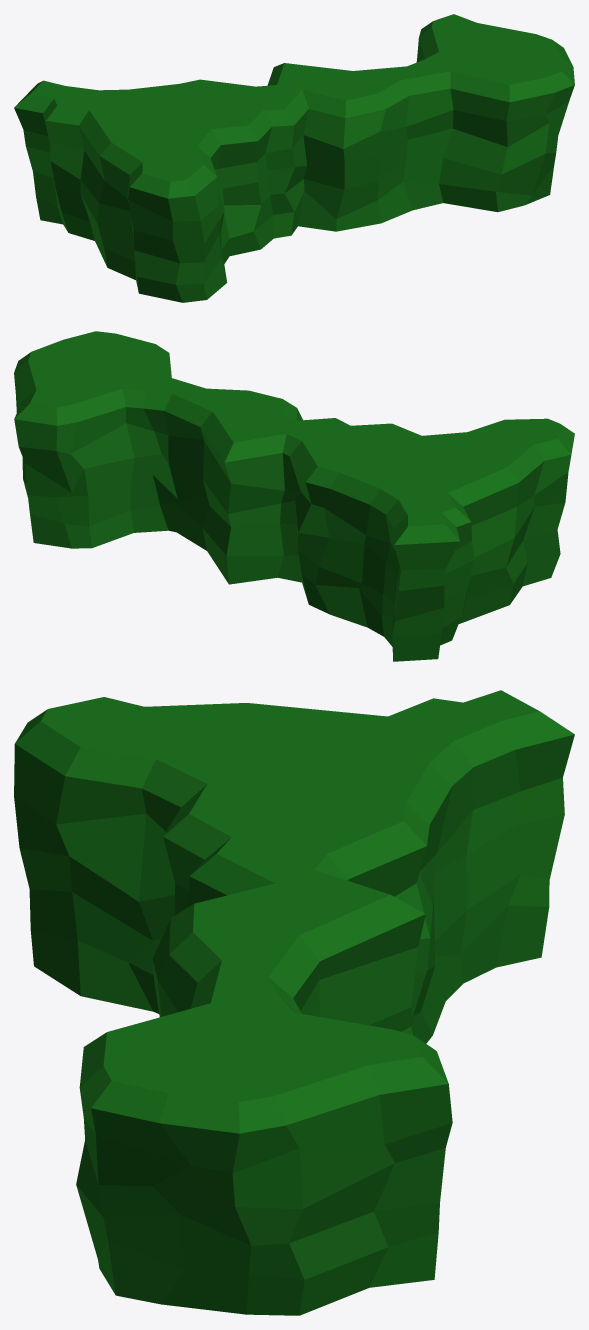
Rendered from Low_Poly_Cliff.glb.
3 views of the same model, one above another, from view 1: azimuth 30°, elevation 25°; view 2: azimuth 150°, elevation 25°; view 3: azimuth 270°, elevation 25° (orthographic). The views are drawn at different scales.
Parts seen in each view (by area): view 1: unnamed (×2); view 2: unnamed (×2); view 3: unnamed (×2).
Boxes of the visible parts, bbox=[...] form: unnamed (×2): bbox=[14, 14, 574, 302]; unnamed (×2): bbox=[14, 331, 574, 661]; unnamed (×2): bbox=[14, 690, 574, 1315].
Bounding box in the file's own units: 1.98 × 0.5022 × 1.09.
